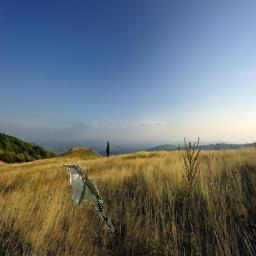Cuckoo: (62, 163, 114, 232)
